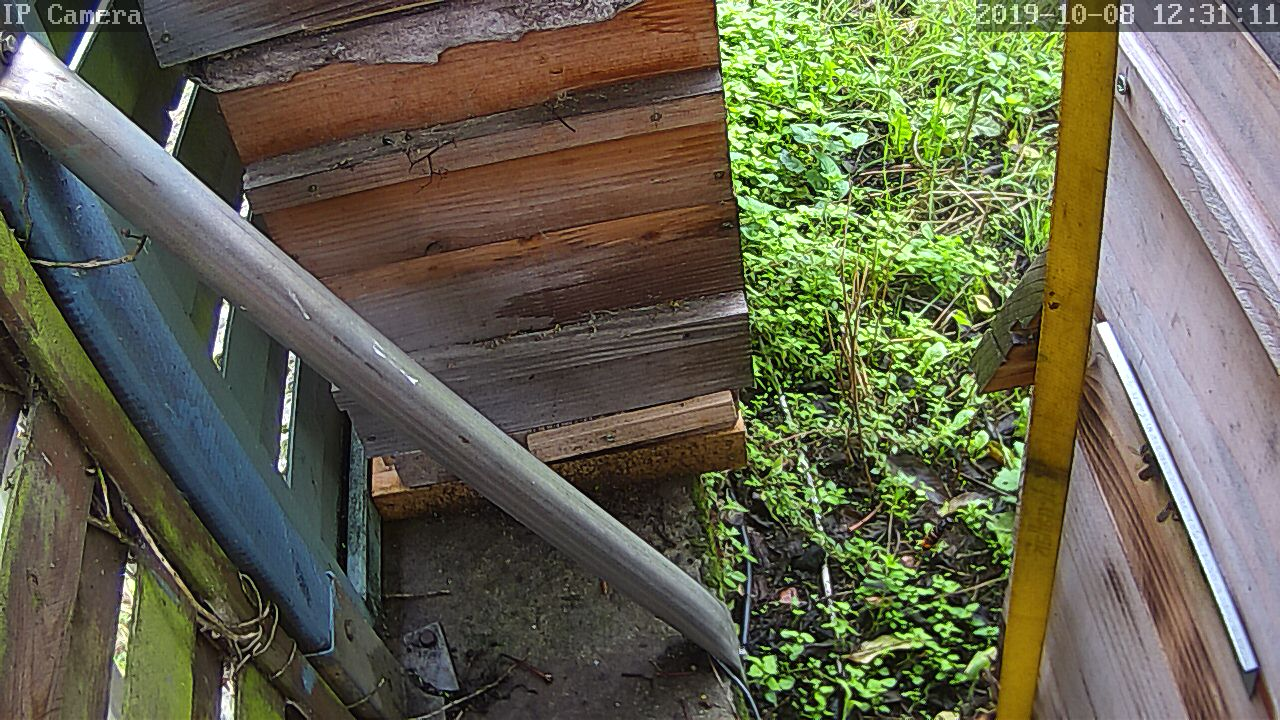bee: (1128, 434, 1160, 487), (1148, 499, 1182, 528)
